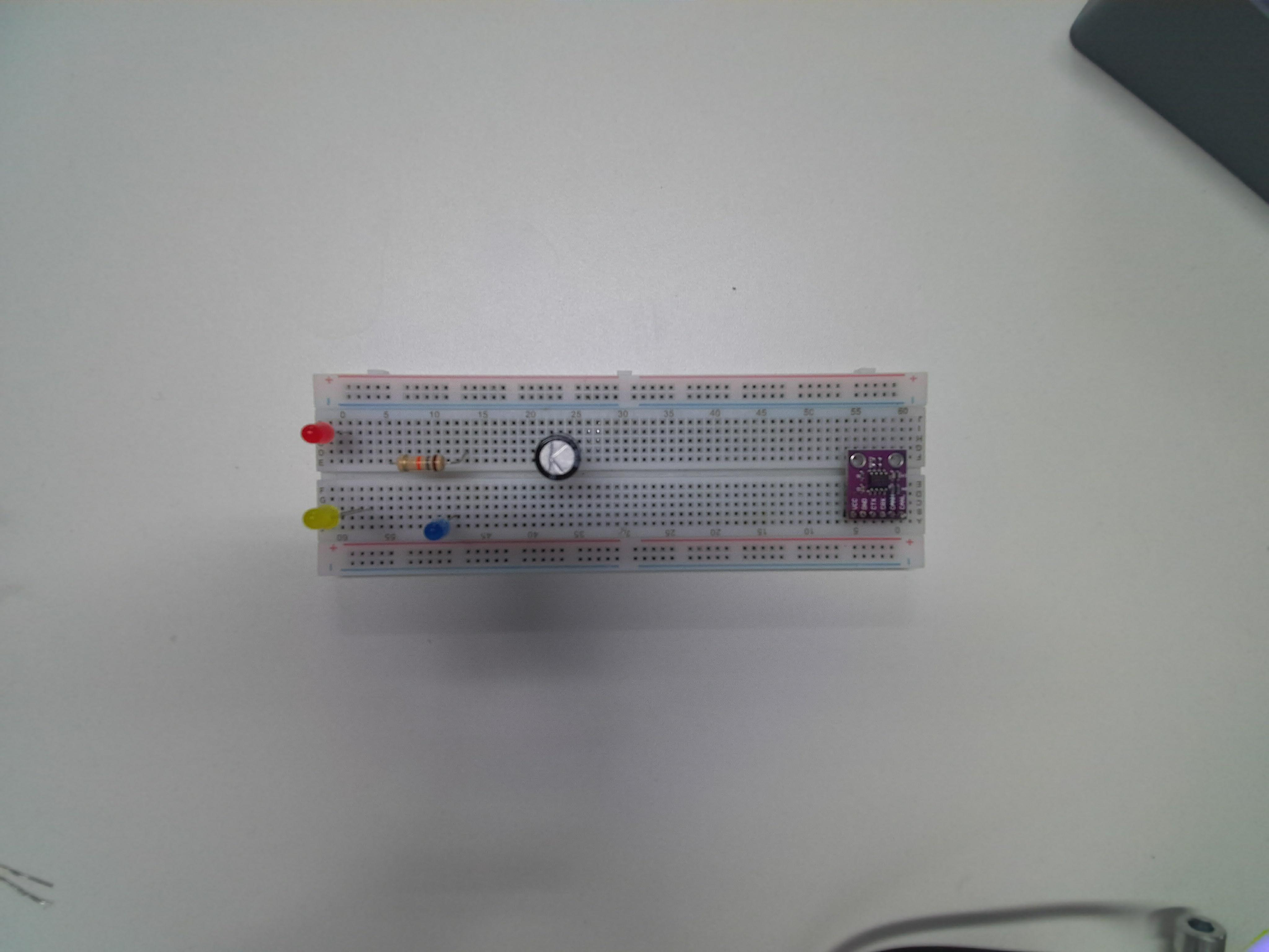base: (306, 372, 929, 582)
blue-led: (424, 516, 450, 543)
capacitor: (536, 433, 580, 481)
purple-board: (843, 448, 908, 522)
red-led: (293, 418, 339, 445)
resistor-big: (394, 450, 445, 474)
yellow-led: (303, 504, 342, 531)
